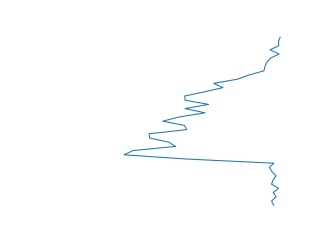proximalDeepseaFan: (118, 37, 286, 212)
